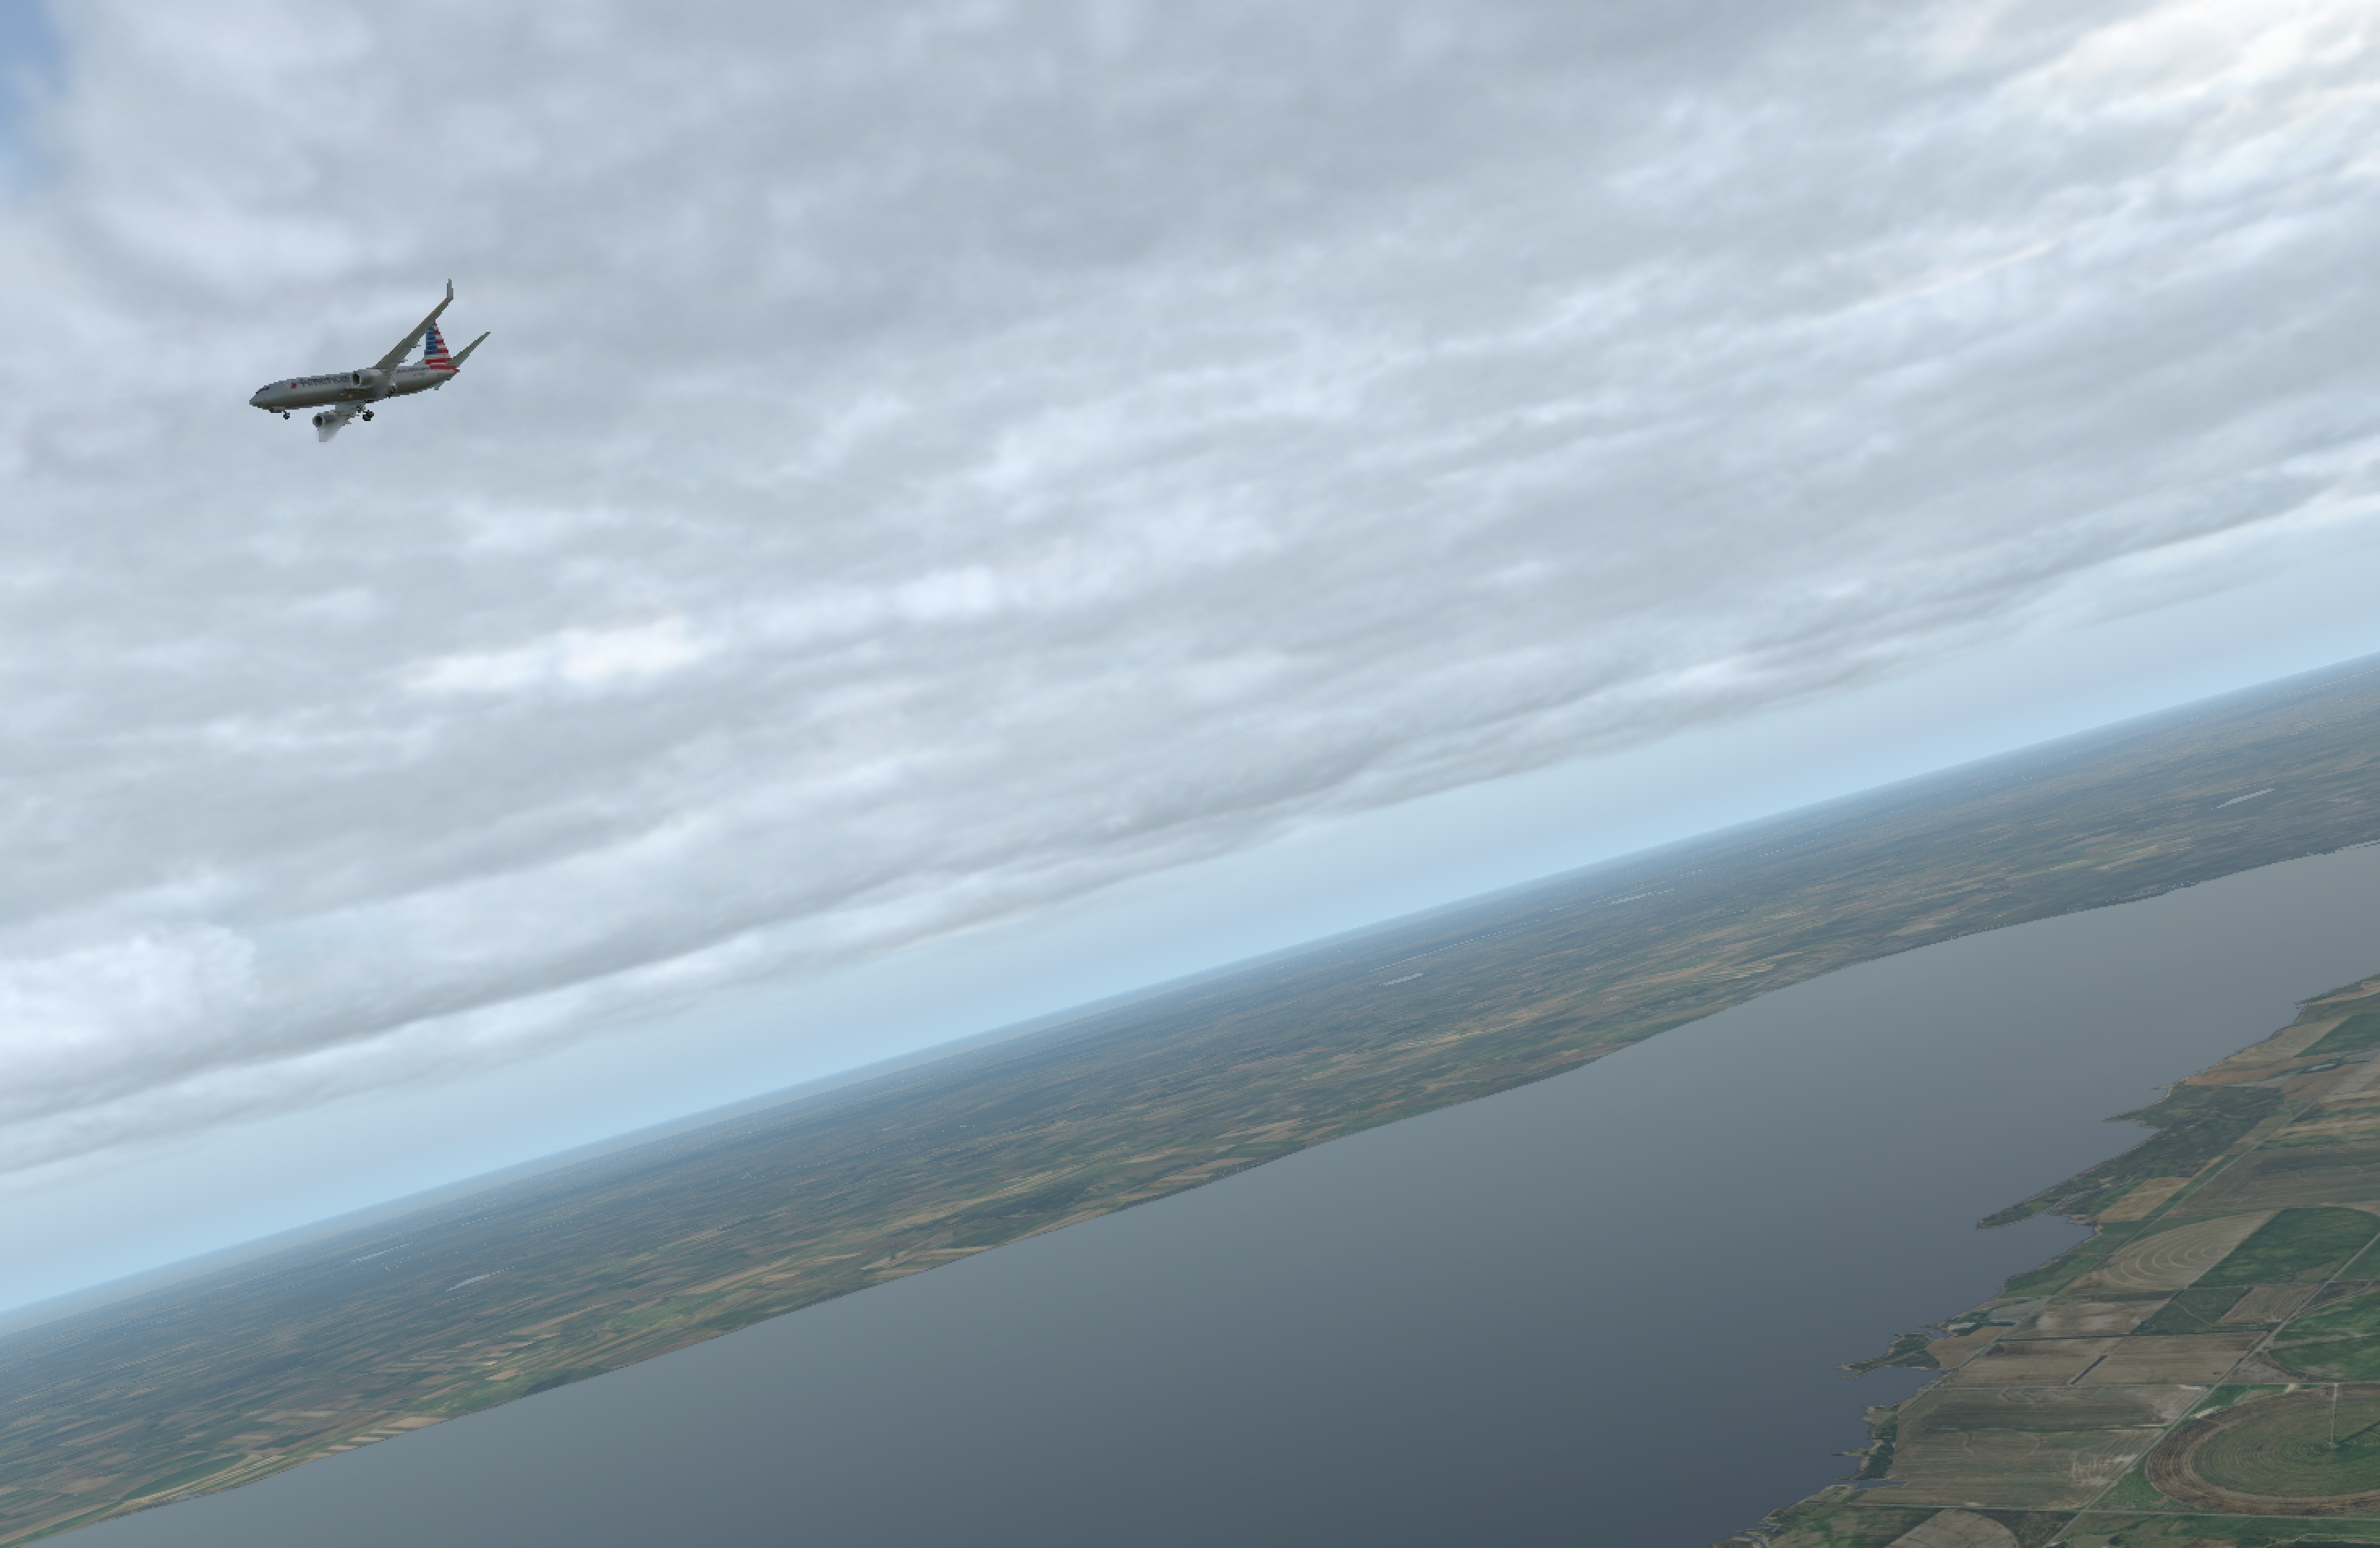aircraft: (229, 340, 493, 439)
